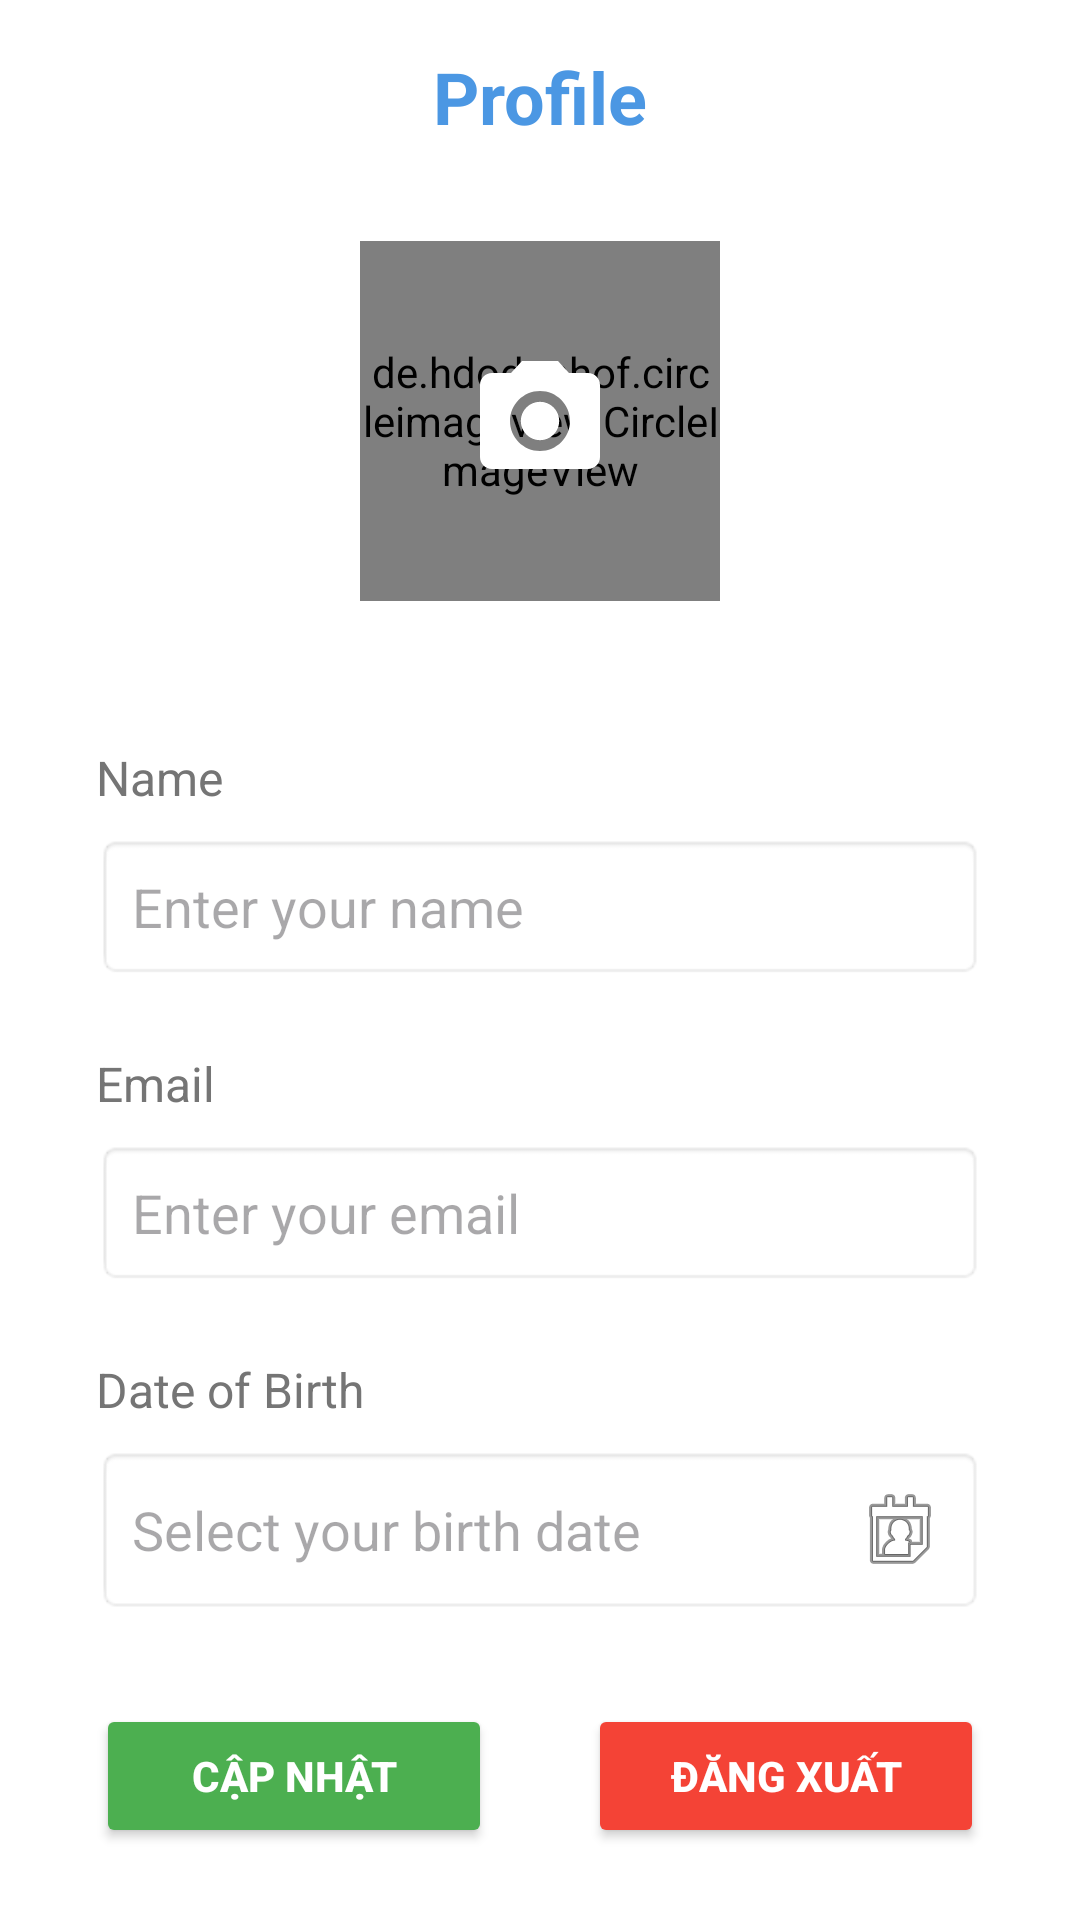

Icon bounding boxes for this 1080 × 1920 phone screenshot, format (x1, y1, x2, y2):
Edit Profile Picture: (468, 356, 612, 493)
